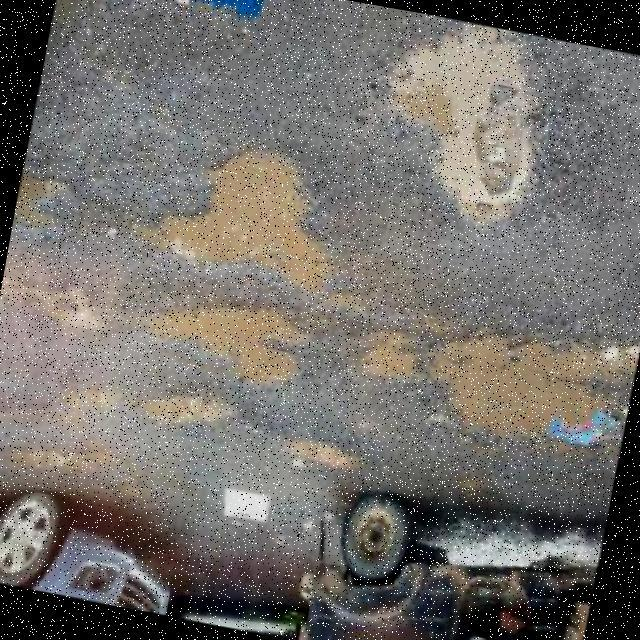Pothole: (387, 29, 546, 225), (154, 147, 332, 290), (437, 334, 640, 445), (140, 302, 309, 385), (0, 266, 100, 329), (11, 172, 65, 236), (276, 436, 362, 471), (138, 393, 235, 423), (358, 331, 416, 381), (0, 443, 72, 469), (58, 382, 116, 414)
